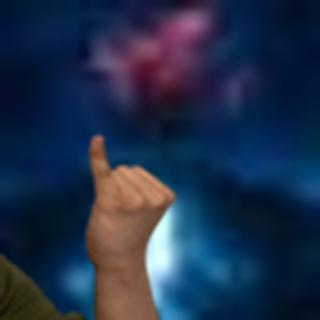FINE: (81, 133, 180, 270)
